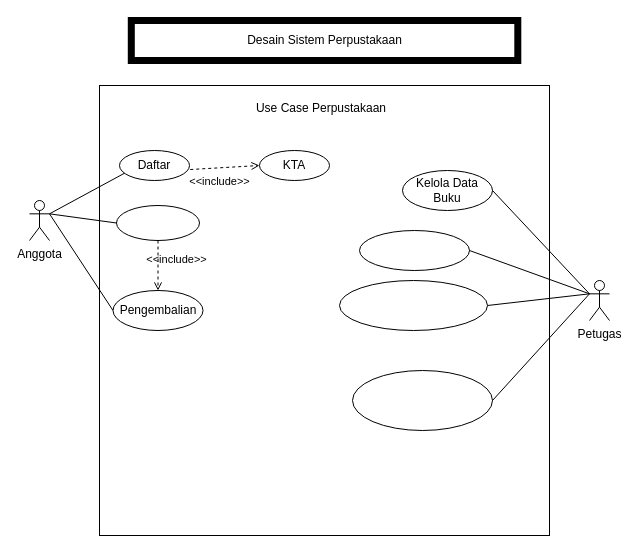
Image size: 639x553. Some labels were removed from this diagram. Each missing label, with the centre of its shape:
"Kelola Data Anggota" goes at (414,250).
"Kelola Data Transaksi Kembali" goes at (422,400).
"Kelola Data Transaksi Pinjam" goes at (413,305).
"Peminjaman" goes at (158,222).
